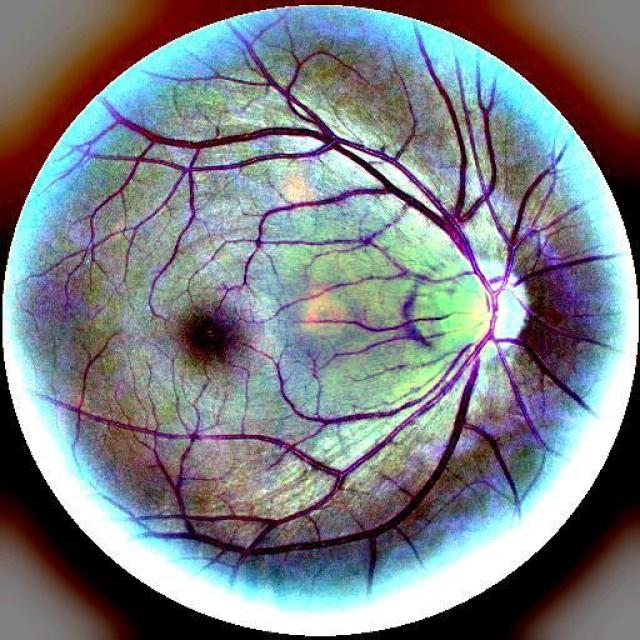Macula: (189, 315, 224, 354)
Nerves: (52, 35, 609, 579)
Optic Disk: (435, 257, 528, 351)
